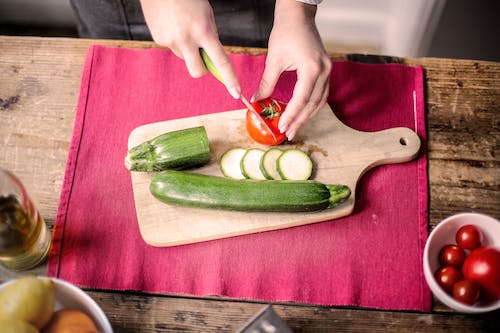knife: (198, 46, 277, 143)
